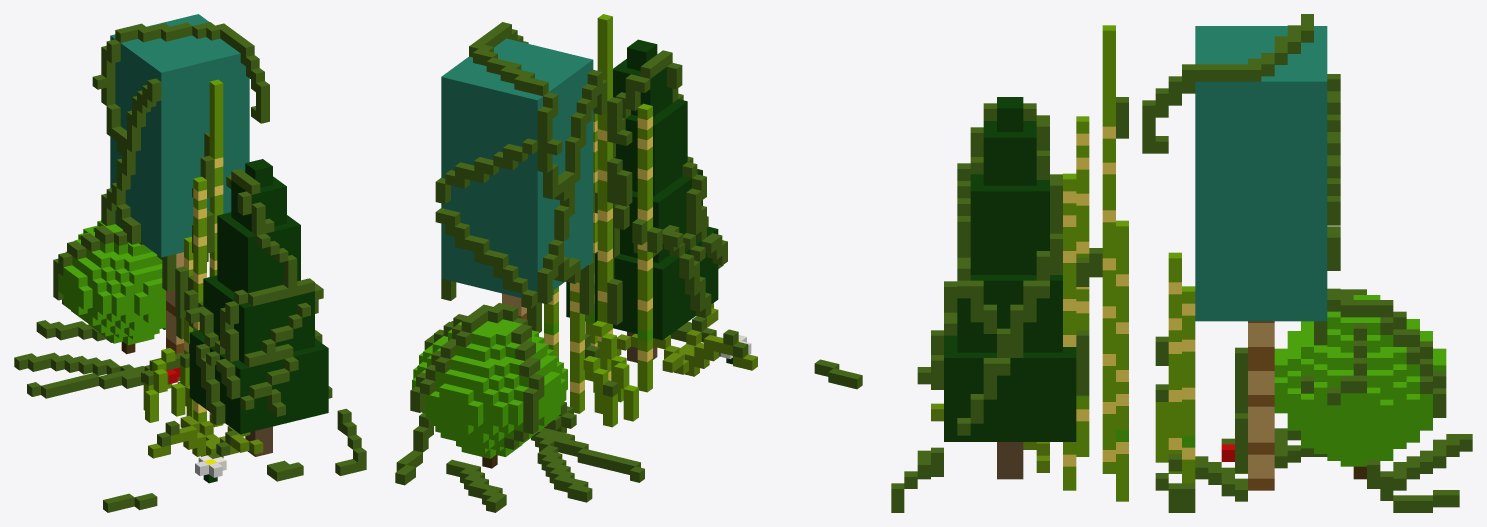
Rendered from Tiles 1 morceau 1.obj.
The picture shows the model from 3 angles, left to right: view 1: azimuth 30°, elevation 25°; view 2: azimuth 150°, elevation 25°; view 3: azimuth 270°, elevation 25°; orthographic projection. The views are drawn at different scales.
Visible parts, largest first — view 1: Tiles 1 morceau 1; view 2: Tiles 1 morceau 1; view 3: Tiles 1 morceau 1.
Boxes of the visible parts, <box> form: Tiles 1 morceau 1: <box>14,14,366,512</box>; Tiles 1 morceau 1: <box>395,14,862,512</box>; Tiles 1 morceau 1: <box>891,14,1472,512</box>.
Size of the model in its own units: 27 by 37 by 44.
1 material, 1 textured.
